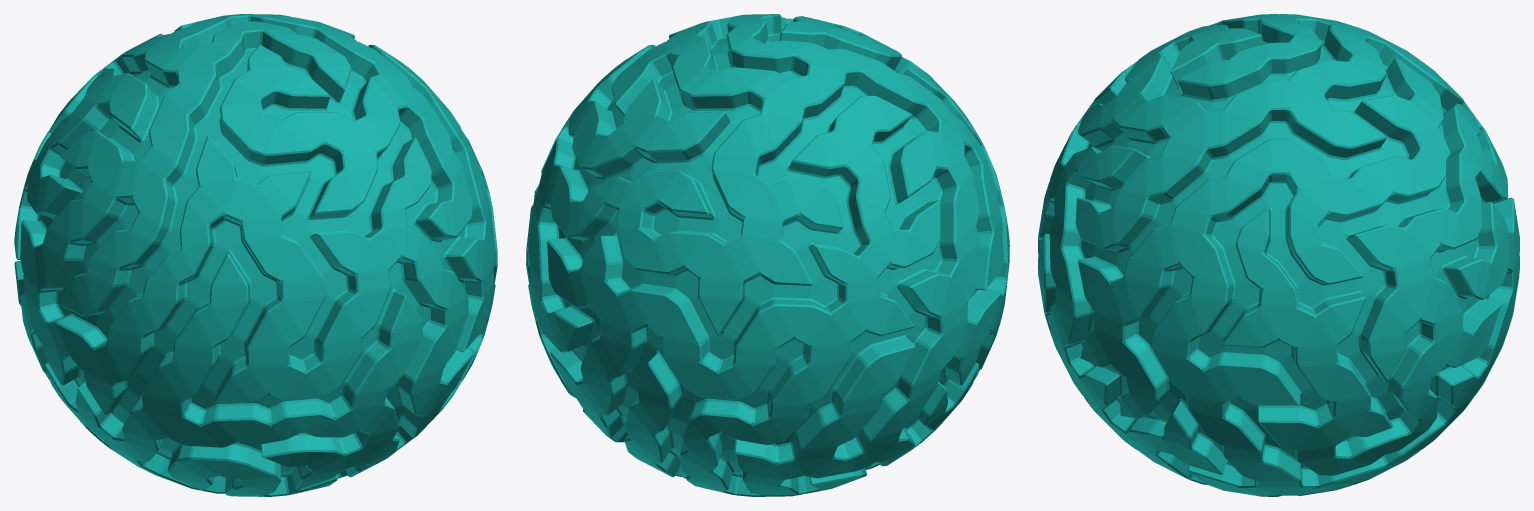
The model's file is ball.glb.
3 views of the same model, side by side, from view 1: azimuth 30°, elevation 25°; view 2: azimuth 150°, elevation 25°; view 3: azimuth 270°, elevation 25° (orthographic).
Parts seen in each view (by area): view 1: Icosphere_0; view 2: Icosphere_0; view 3: Icosphere_0.
Boxes of the visible parts, bbox=[...] form: Icosphere_0: bbox=[14, 14, 497, 496]; Icosphere_0: bbox=[526, 14, 1009, 496]; Icosphere_0: bbox=[1038, 14, 1519, 496].
Size of the model in its own units: 5.92 by 5.94 by 5.92.
